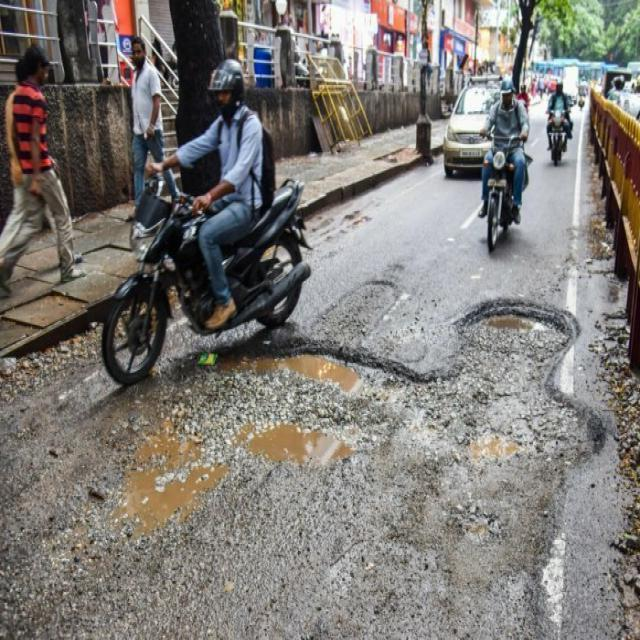pothole: (34, 285, 605, 603)
